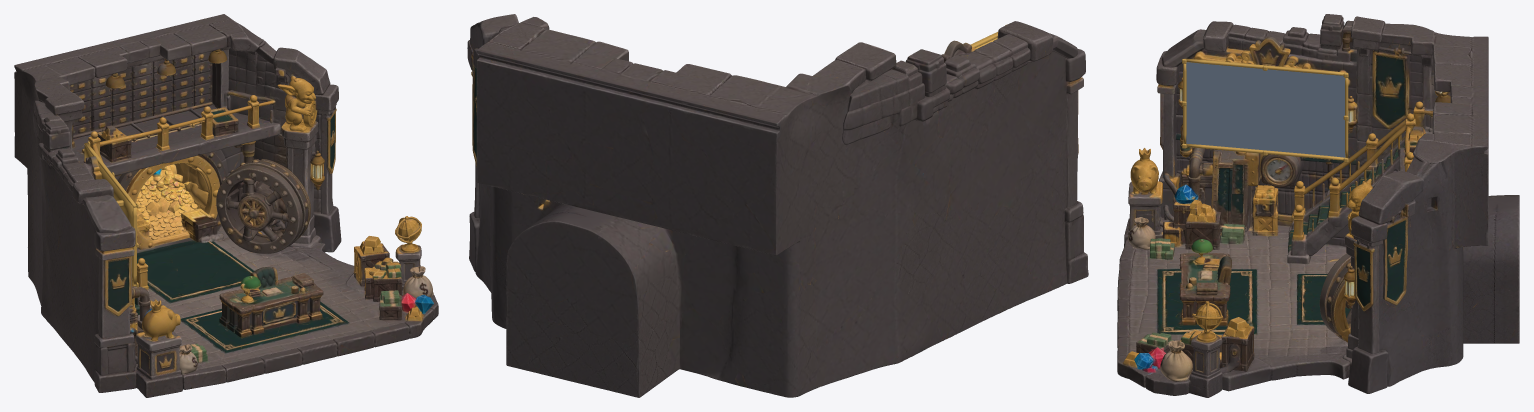
The model's file is kfb-meshy-goblin-bank.screen-a.v2.glb.
The picture shows the model from 3 angles, left to right: view 1: azimuth 30°, elevation 25°; view 2: azimuth 150°, elevation 25°; view 3: azimuth 270°, elevation 25°; orthographic projection. The views are drawn at different scales.
Parts seen in each view (by area): view 1: goblin_bank, kfb_screen_frame; view 2: goblin_bank; view 3: goblin_bank, kfb_screen_slot, kfb_screen_frame.
Boxes of the visible parts, x1,y1,x2,y2 form: goblin_bank: (14, 14, 438, 397); kfb_screen_frame: (84, 141, 138, 287); goblin_bank: (467, 14, 1088, 397); goblin_bank: (1117, 14, 1519, 397); kfb_screen_slot: (1186, 62, 1345, 157); kfb_screen_frame: (1182, 58, 1348, 162).
Size of the model in its own units: 1.9 by 1.12 by 1.79.
3 materials, 1 textured.
